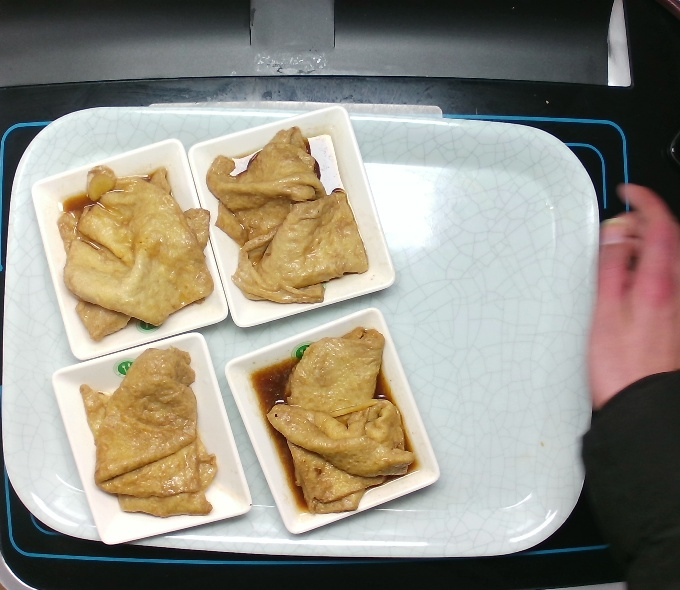wcq-YouDouFu: (200, 119, 377, 314), (50, 150, 213, 343), (74, 337, 233, 534), (260, 323, 419, 520)
